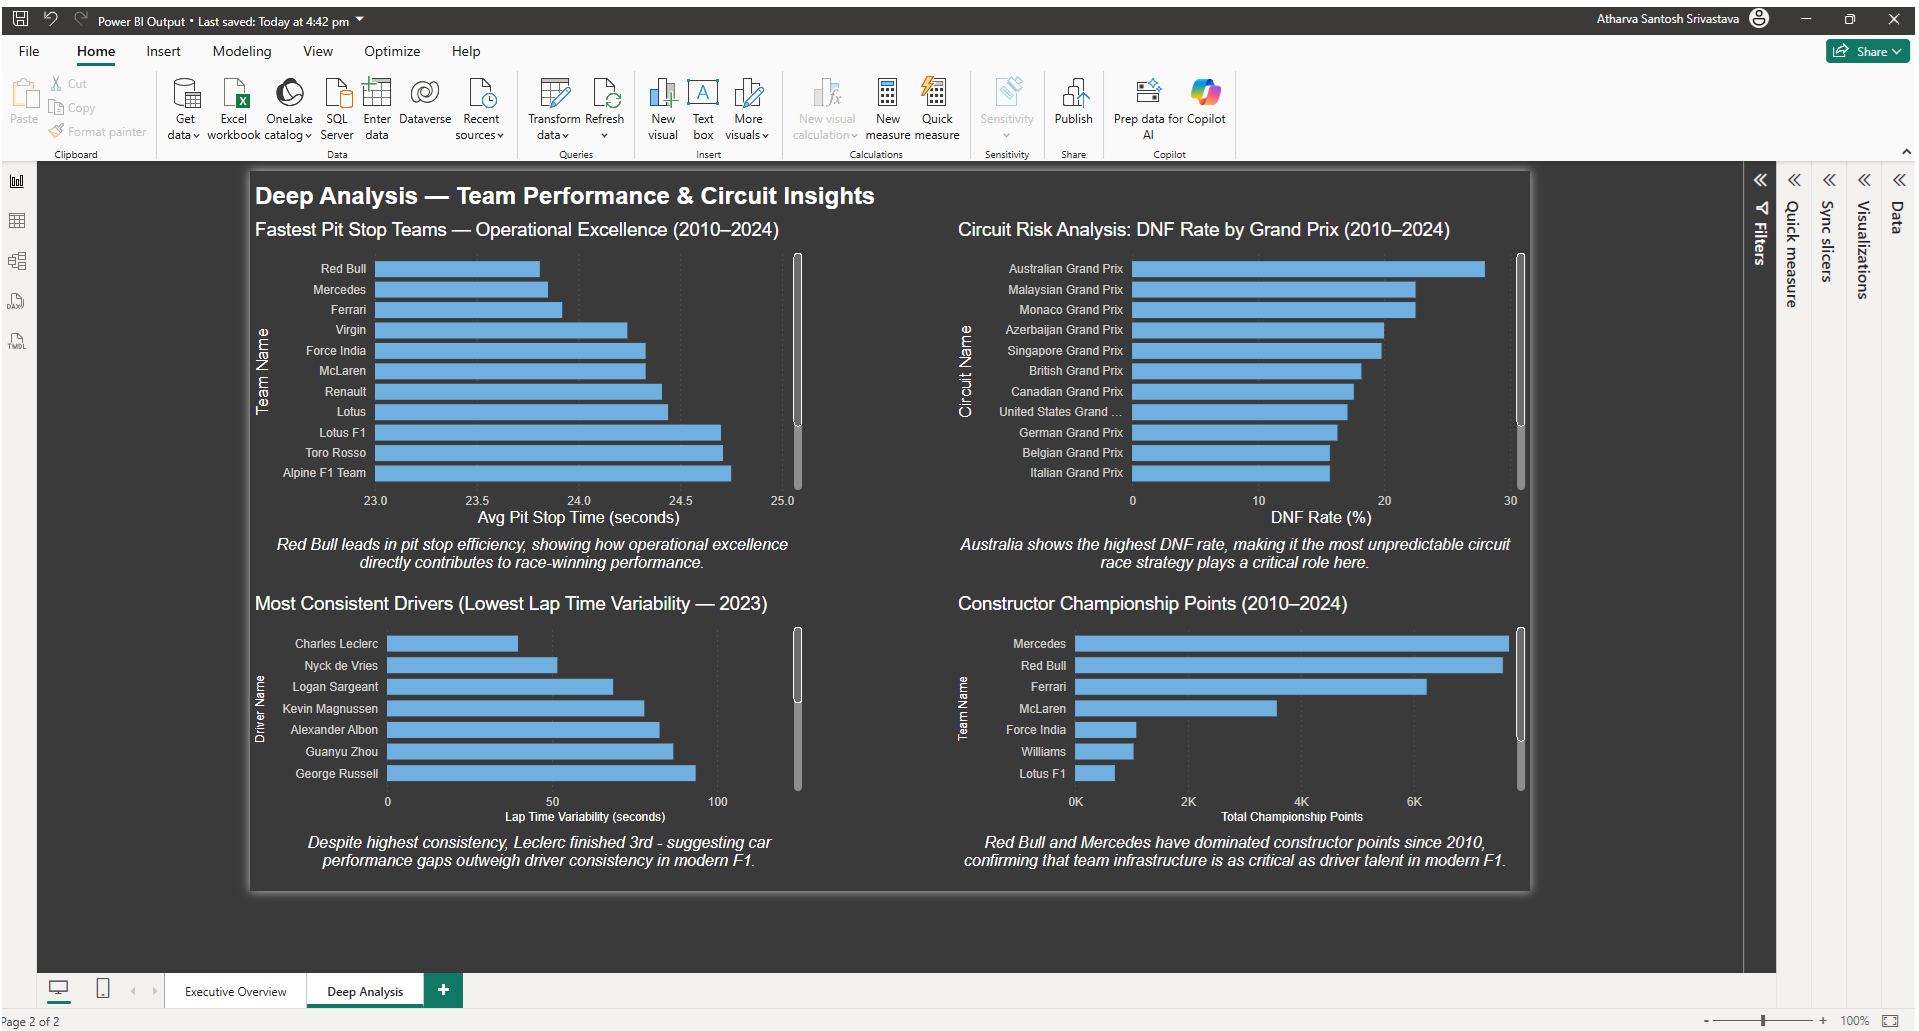

This screenshot's page, from the dashboard's own definition file:
{"tool":"powerbi","page":{"name":"Deep Analysis","canvas":[1280,720],"ordinal":1},"visuals":[{"type":"clusteredBarChart","title":"Fastest Pit Stop Teams — Operational Excellence (2010–2024)","fields":{"Y":["Avg(pit_stops.avg_pit_stop_seconds)"],"Category":["pit_stops.team_name"]},"box":[0,48,557,312],"z":0},{"type":"clusteredBarChart","title":"Circuit Risk Analysis: DNF Rate by Grand Prix (2010–2024)","fields":{"Category":["circuit_dnf.circuit_name"],"Y":["Sum(circuit_dnf.dnf_percentage)"]},"box":[703,48,577,312],"z":1000},{"type":"clusteredBarChart","title":"Most Consistent Drivers (Lowest Lap Time Variability — 2023)","fields":{"Category":["consistency_2023.Driver Name"],"Y":["Avg(consistency_2023.lap_consistency_stddev)"]},"box":[0,422,557,236],"z":2000},{"type":"textbox","box":[0,6,653,42],"z":3000},{"type":"textbox","box":[21,360,522,48],"z":4000},{"type":"textbox","box":[703,360,564,51],"z":5000},{"type":"textbox","box":[21,658,536,62],"z":6000},{"type":"clusteredBarChart","title":"Constructor Championship Points (2010–2024)","fields":{"Category":["constructor_points.team_name"],"Y":["Sum(constructor_points.total_points)"]},"box":[703,422,577,236],"z":7000},{"type":"textbox","box":[703,658,564,62],"z":8000}]}

Visuals, with their boxes on the page's 1280x720 design canvas (x1, y1, x2, y2). These are canvas units, not pixel positions in the 1919x1031 screenshot, which may show the page scaled, cropped or inside an application window:
"Fastest Pit Stop Teams — Operational Excellence (2010–2024)" clusteredBarChart: left=0, top=48, right=557, bottom=360
"Circuit Risk Analysis: DNF Rate by Grand Prix (2010–2024)" clusteredBarChart: left=703, top=48, right=1280, bottom=360
"Most Consistent Drivers (Lowest Lap Time Variability — 2023)" clusteredBarChart: left=0, top=422, right=557, bottom=658
textbox: left=0, top=6, right=653, bottom=48
textbox: left=21, top=360, right=543, bottom=408
textbox: left=703, top=360, right=1267, bottom=411
textbox: left=21, top=658, right=557, bottom=720
"Constructor Championship Points (2010–2024)" clusteredBarChart: left=703, top=422, right=1280, bottom=658
textbox: left=703, top=658, right=1267, bottom=720
